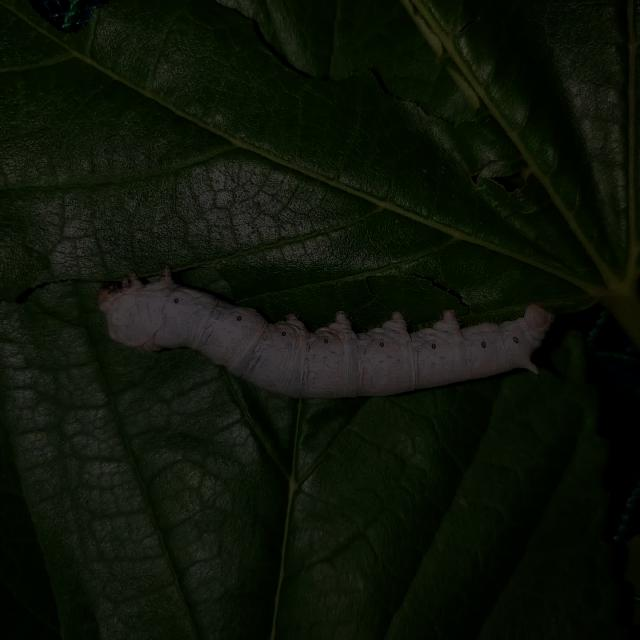Healthy: (89, 255, 560, 411)
